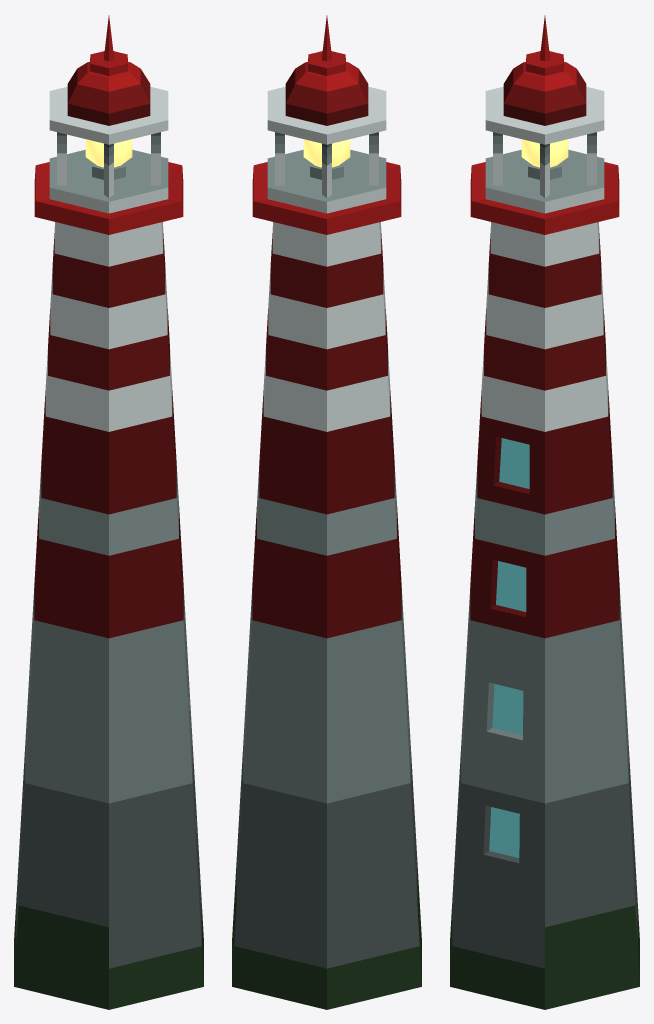
The model's file is Faro.FBX.
3 views of the same model, side by side, from view 1: azimuth 30°, elevation 25°; view 2: azimuth 150°, elevation 25°; view 3: azimuth 270°, elevation 25° (orthographic).
Parts seen in each view (by area): view 1: pieza faro00, pieza faro17, pieza faro16, pieza faro15, pieza faro14, pieza faro13, pieza faro12, pieza faro11, pieza faro10, pieza faro09, pieza faro08, pieza faro07 (+6 smaller); view 2: pieza faro00, pieza faro17, pieza faro16, pieza faro15, pieza faro14, pieza faro13, pieza faro12, pieza faro11, pieza faro10, pieza faro09, pieza faro08, pieza faro07 (+6 smaller); view 3: pieza faro00, pieza faro17, pieza faro13, pieza faro16, pieza faro15, pieza faro10, pieza faro12, pieza faro14, pieza faro07, pieza faro09, pieza faro11, pieza faro04 (+6 smaller).
Boxes of the visible parts, box(x1,y1,x2,y2) form: pieza faro00: box(34, 15, 183, 234); pieza faro17: box(14, 222, 203, 1009); pieza faro16: box(16, 862, 201, 968); pieza faro15: box(18, 827, 199, 927); pieza faro14: box(20, 787, 197, 885); pieza faro13: box(23, 746, 194, 844); pieza faro12: box(25, 705, 192, 803); pieza faro11: box(27, 664, 190, 761); pieza faro10: box(30, 629, 187, 720); pieza faro09: box(32, 588, 185, 679); pieza faro08: box(34, 548, 183, 638); pieza faro07: box(36, 507, 181, 596); pieza faro00: box(252, 15, 401, 234); pieza faro17: box(232, 222, 421, 1009); pieza faro16: box(234, 862, 419, 968); pieza faro15: box(236, 827, 417, 927); pieza faro14: box(238, 787, 415, 885); pieza faro13: box(241, 746, 412, 844); pieza faro12: box(243, 705, 410, 803); pieza faro11: box(245, 664, 408, 761); pieza faro10: box(248, 629, 405, 720); pieza faro09: box(250, 588, 403, 679); pieza faro08: box(252, 548, 401, 638); pieza faro07: box(254, 507, 399, 596); pieza faro00: box(470, 15, 619, 234); pieza faro17: box(450, 222, 639, 1009); pieza faro13: box(459, 746, 630, 857); pieza faro16: box(452, 862, 637, 968); pieza faro15: box(454, 827, 635, 927); pieza faro10: box(466, 629, 623, 734); pieza faro12: box(461, 705, 628, 803); pieza faro14: box(456, 787, 633, 885); pieza faro07: box(472, 507, 617, 611); pieza faro09: box(468, 588, 621, 679); pieza faro11: box(463, 664, 626, 761); pieza faro04: box(479, 390, 610, 488).
Size of the model in its own units: 94.84 by 453 by 82.13.
